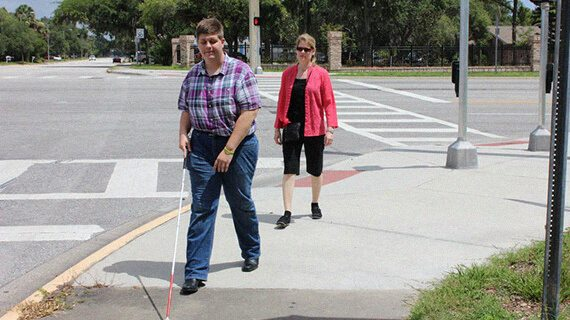Person: (179, 17, 262, 296), (274, 32, 339, 228)
